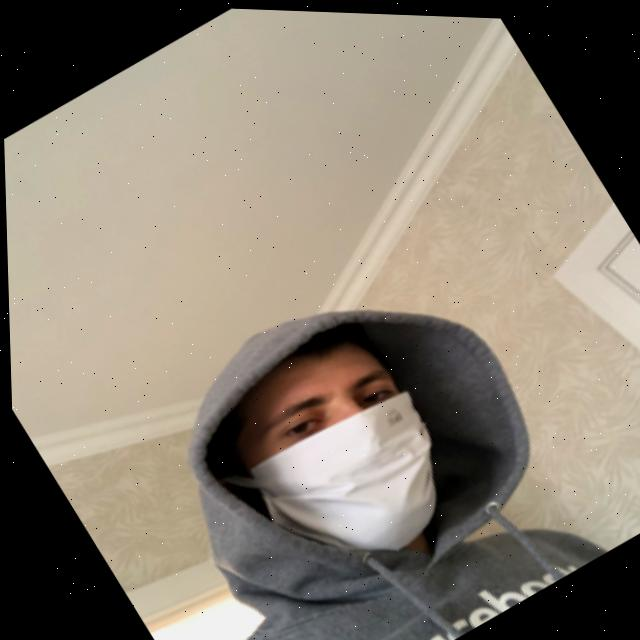Mask: (209, 344, 484, 613)
